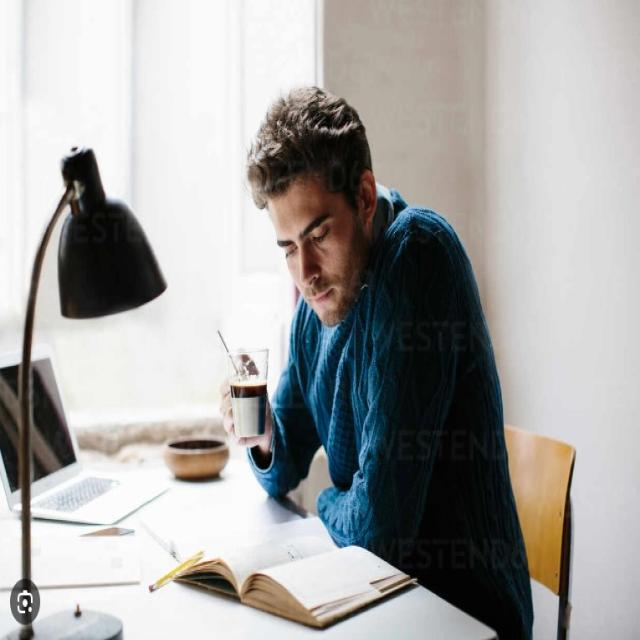studying-person: (130, 29, 561, 640)
